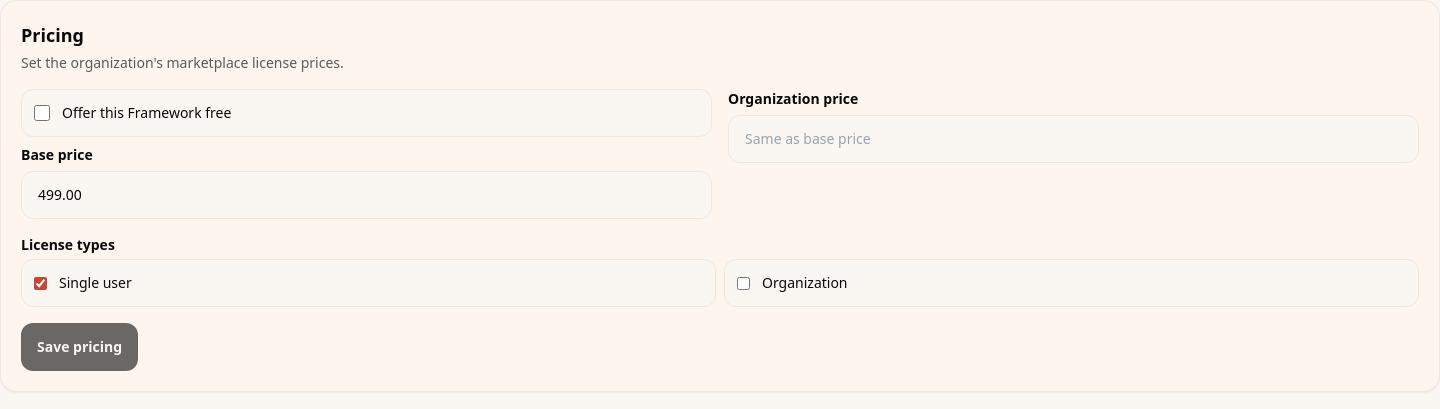
Test case: FrameworkPricingForm › enables Save pricing once the base price is edited
Replace the text in the field labelled "Base price" with "550.00" at x=366, y=195, box [21,171,712,219]
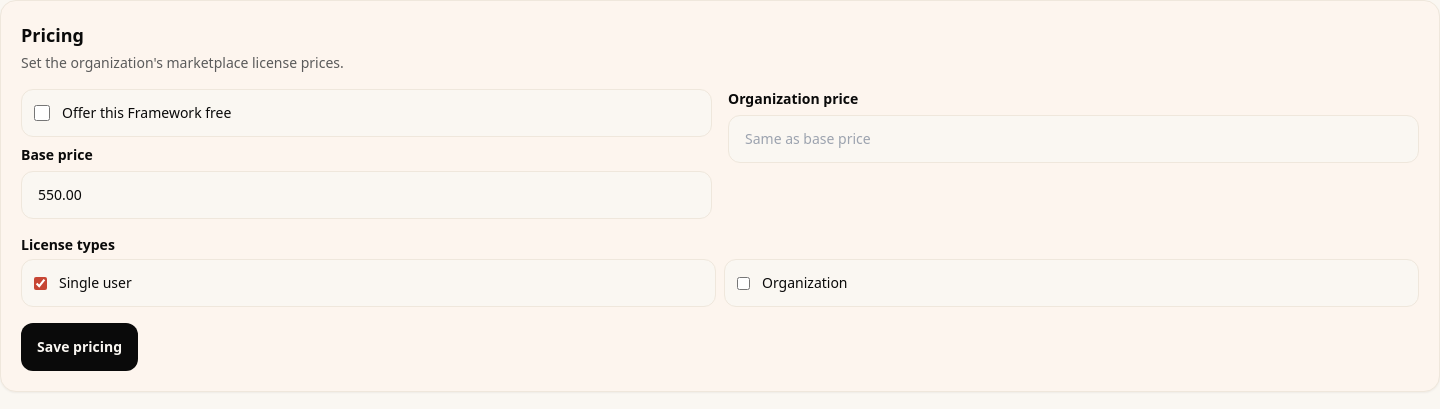
Now the button "Save pricing" is enabled, box [21,323,138,371]
